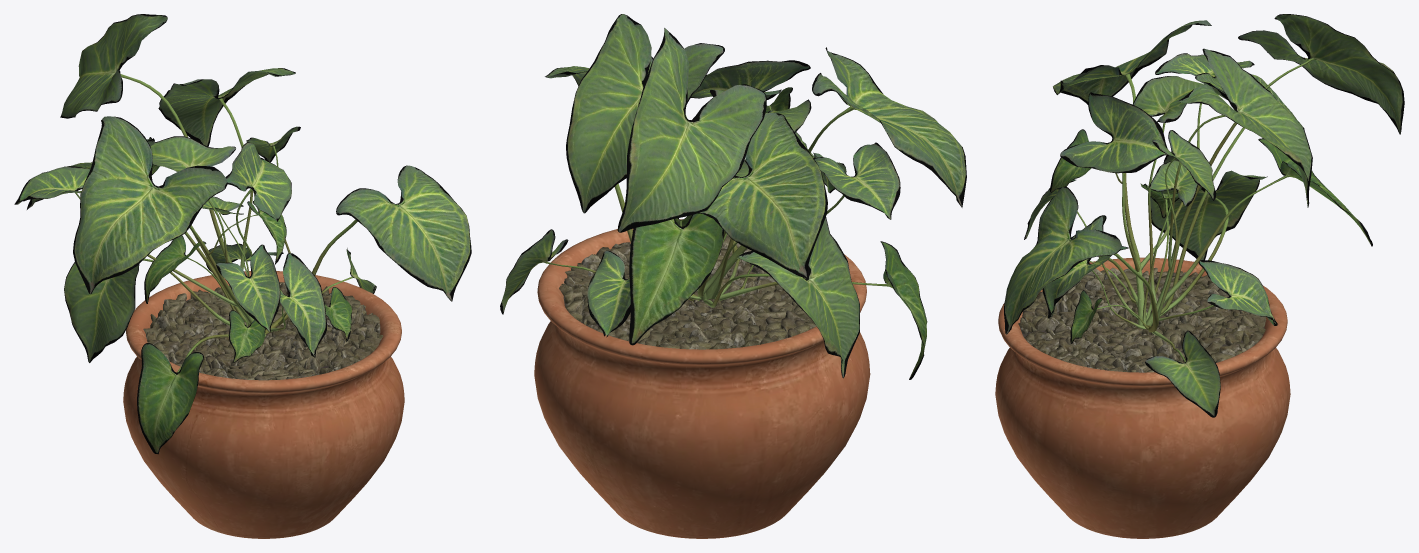
File: potted_plant_02.glb
The picture shows the model from 3 angles, left to right: view 1: azimuth 30°, elevation 25°; view 2: azimuth 150°, elevation 25°; view 3: azimuth 270°, elevation 25°; orthographic projection. The views are drawn at different scales.
Parts seen in each view (by area): view 1: potted_plant_02_leaves, potted_plant_02_pot; view 2: potted_plant_02_leaves, potted_plant_02_pot; view 3: potted_plant_02_pot, potted_plant_02_leaves.
Part boxes in pixels (x1,y1,x2,y2): potted_plant_02_leaves: [14, 14, 471, 454]; potted_plant_02_pot: [123, 271, 404, 538]; potted_plant_02_leaves: [500, 14, 966, 379]; potted_plant_02_pot: [534, 219, 870, 538]; potted_plant_02_pot: [995, 257, 1290, 538]; potted_plant_02_leaves: [1004, 14, 1404, 417].
Size of the model in its own units: 0.7012 by 0.8412 by 0.6574.
2 materials, 2 textured.
